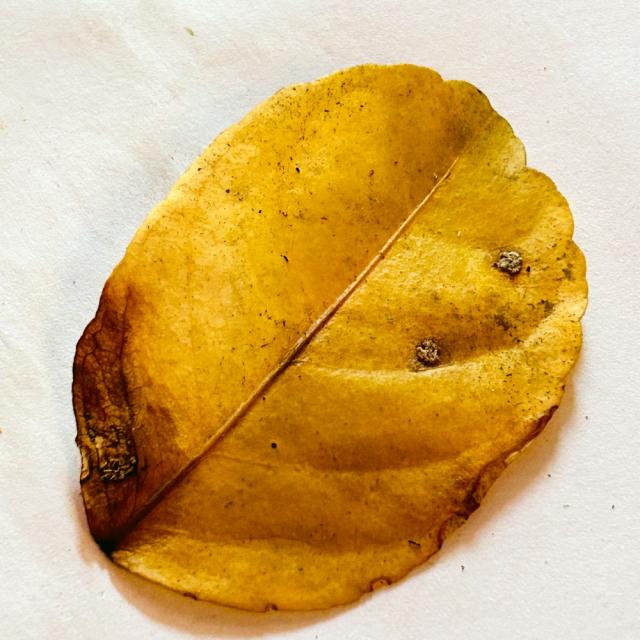DryLeaf_Lemon: (72, 65, 587, 611)
